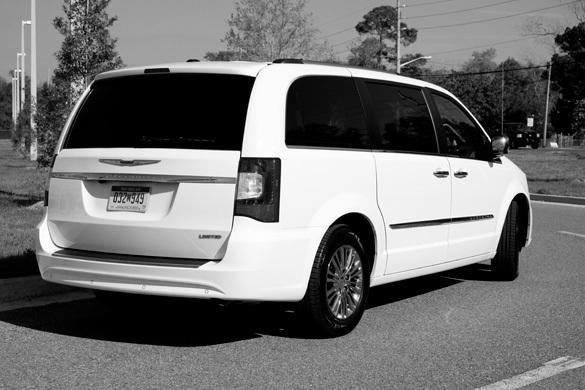car: (26, 63, 539, 360)
